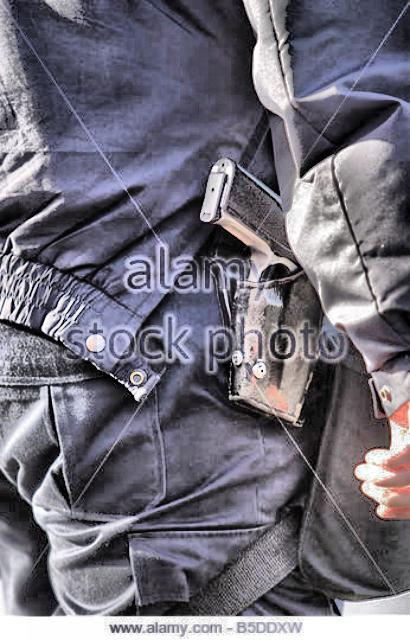pistol: (195, 152, 331, 426)
